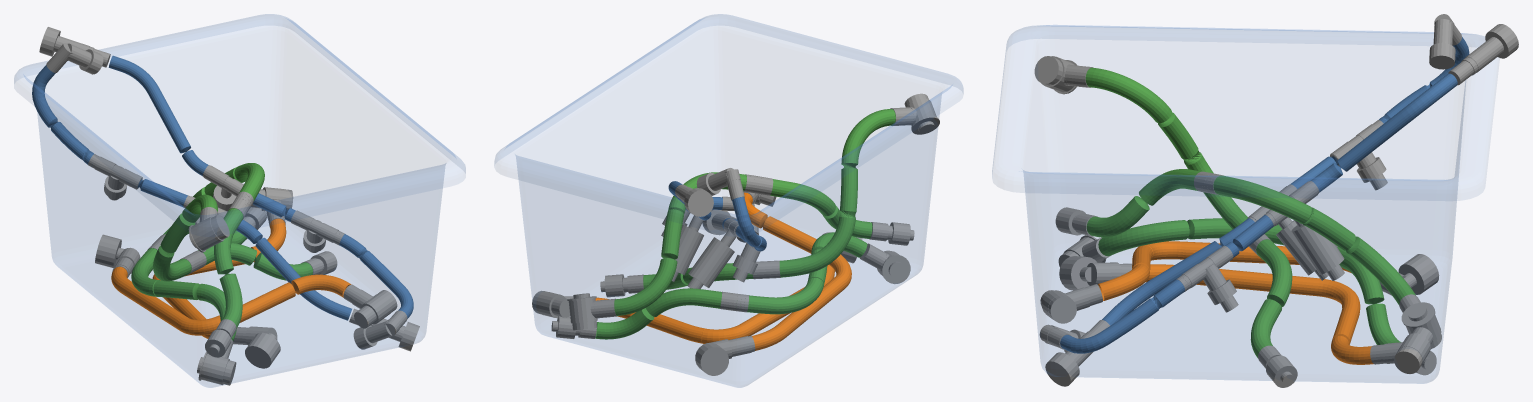
File: bin3d.glb
3 views of the same model, side by side, from view 1: azimuth 30°, elevation 25°; view 2: azimuth 150°, elevation 25°; view 3: azimuth 270°, elevation 25° (orthographic). The views are drawn at different scales.
Parts seen in each view (by area): view 1: bin1_s08_full_v2t; view 2: bin1_s08_full_v2t; view 3: bin1_s08_full_v2t.
Part boxes in pixels (<box>): bin1_s08_full_v2t: <box>14,14,465,387</box>; bin1_s08_full_v2t: <box>494,14,963,387</box>; bin1_s08_full_v2t: <box>992,14,1518,387</box>.
Size of the model in its own units: 0.3086 by 0.2373 by 0.4228.
